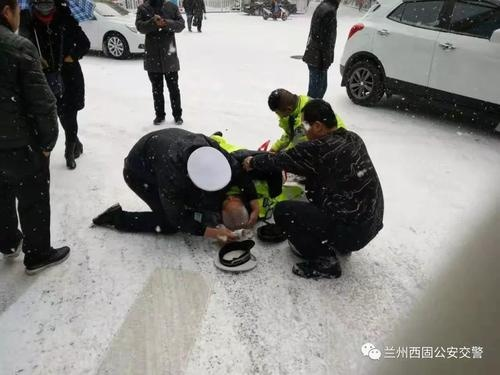falling: (202, 127, 289, 241)
